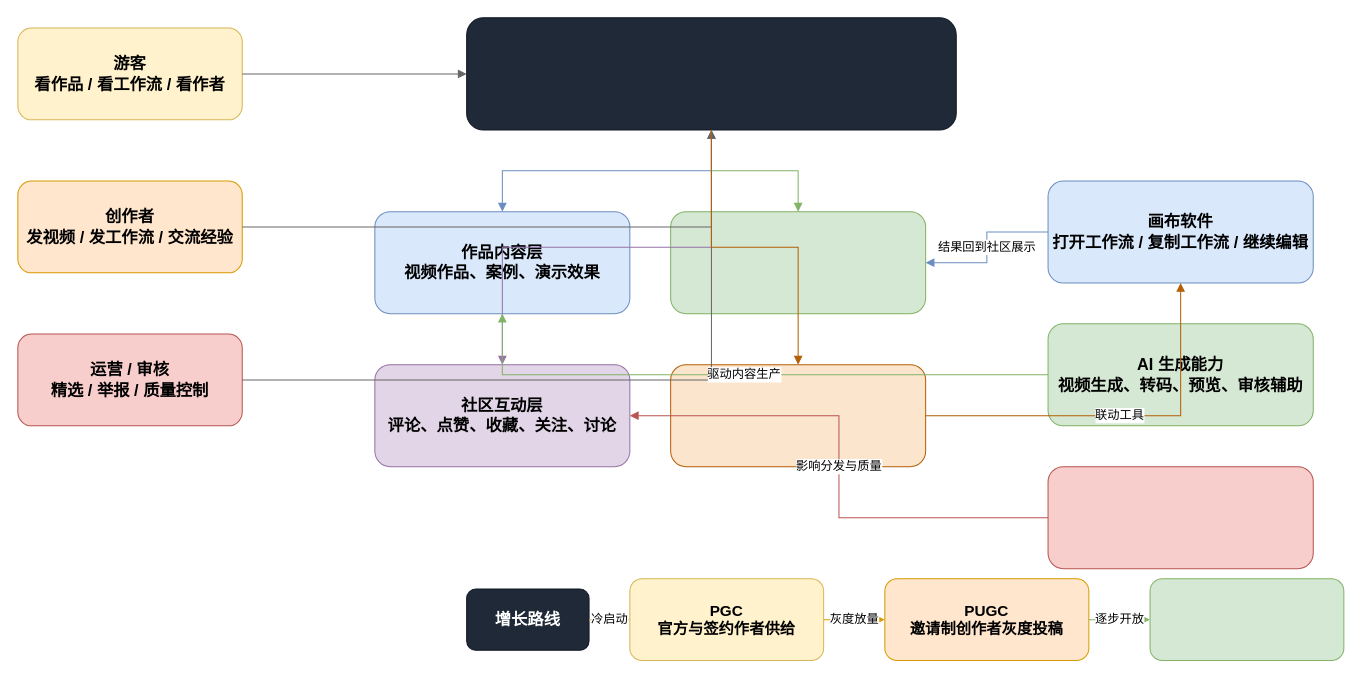
Some shapes in this 1362 by 678 pixel diagram are drawn without their labels. Here are the shapes that lost their labels. From the top down, the centre of each, then its label:
the point at 711,73: DramaTV AI 视频生成社区
the point at 798,262: 工作流内容层 提示词、参数、节点、复用方法
the point at 798,415: 创作入口层 发布中心、绑定工作流、回到画布
the point at 1180,517: 运营治理 精选、挑战、举报处理、质量线
the point at 1246,619: UGC 机制稳定后逐步开放
